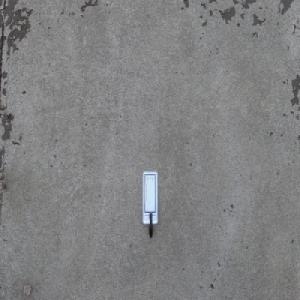LuggageTag: (141, 170, 158, 239)
